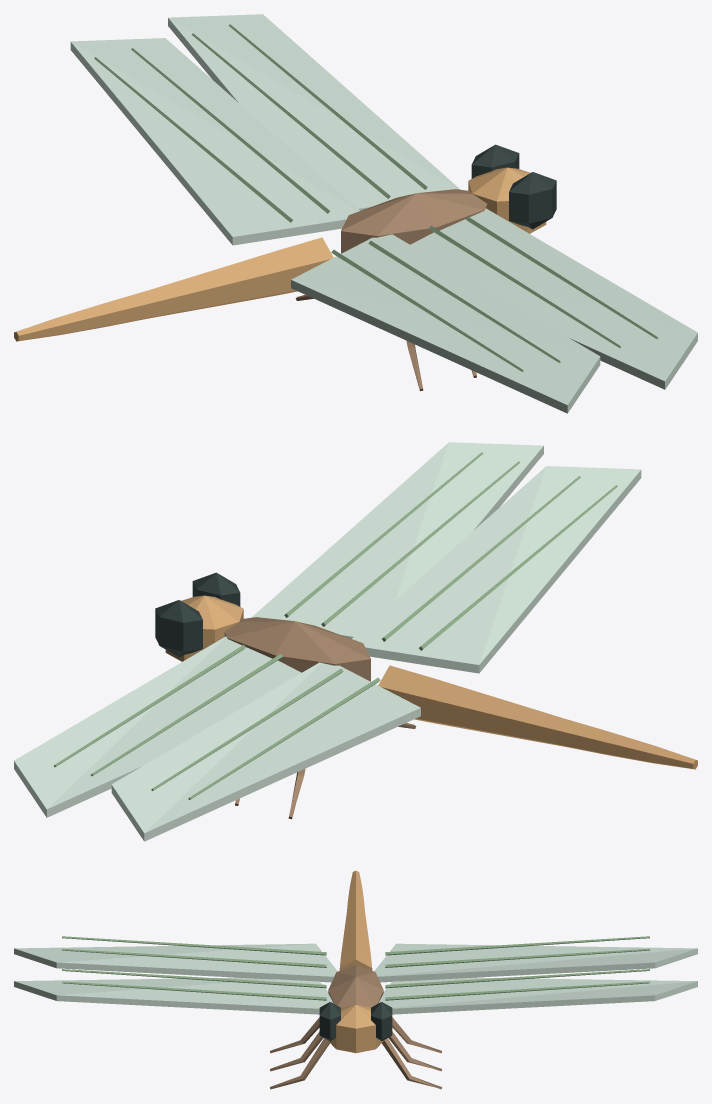
Rendered from meganeura.7c28ba01b929.glb.
3 renders of one model, top to bottom at view 1: azimuth 30°, elevation 25°; view 2: azimuth 150°, elevation 25°; view 3: azimuth 270°, elevation 25°, orthographic. The views are drawn at different scales.
Parts seen in each view (by area): view 1: meganeura; view 2: meganeura; view 3: meganeura.
Boxes of the visible parts, x1,y1,x2,y2 form: meganeura: (14,14,697,413); meganeura: (14,442,697,841); meganeura: (14,870,697,1089).
Bounding box in the file's own units: 0.6109 × 0.1665 × 1.
